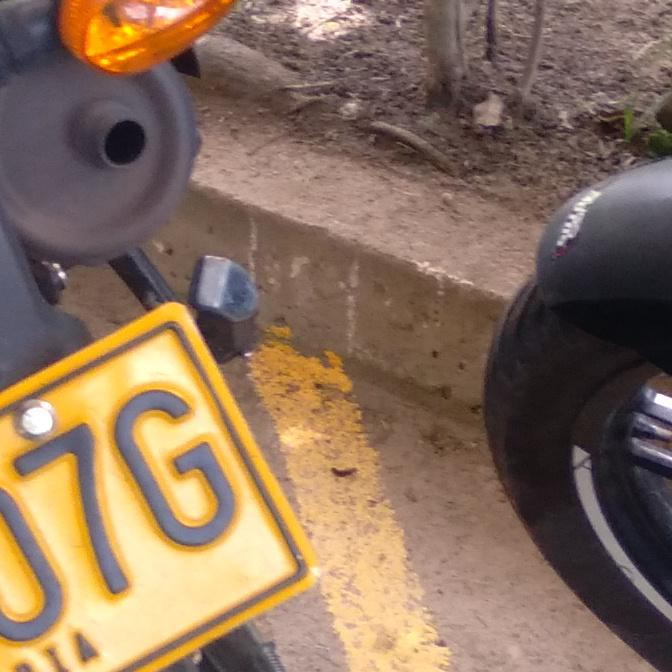plates: (0, 312, 324, 672)
